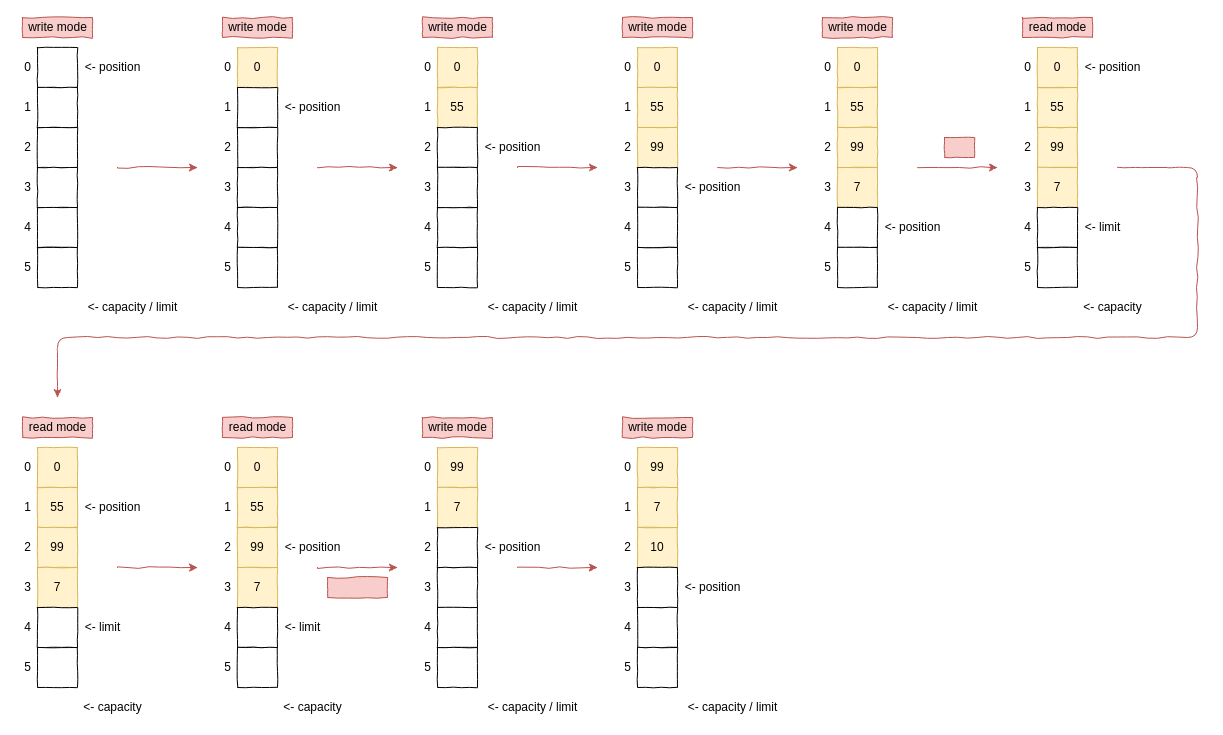
The diagram is 1223 pixels wide and 735 high, and some of its shapes have lost their labels. The centre of each missing label's shape, as x and y in pixels:
"compact" goes at point 357,587.
"flip" goes at point 959,147.
